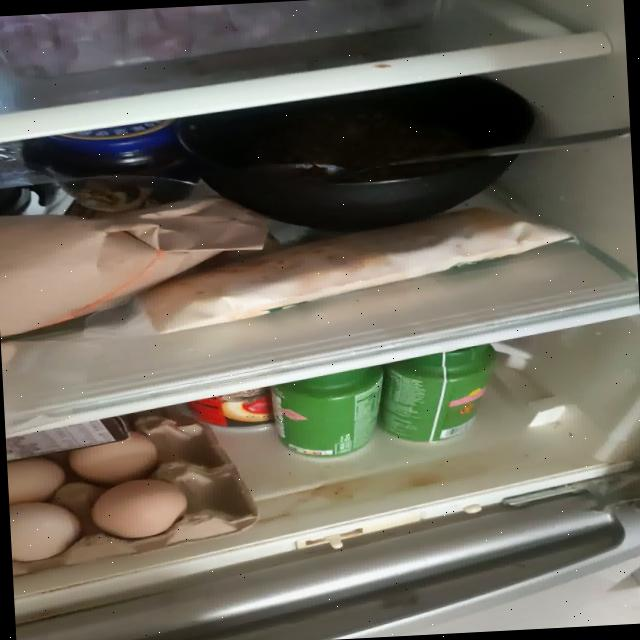egg: (5, 408, 261, 578)
tempeh: (128, 200, 578, 336)
